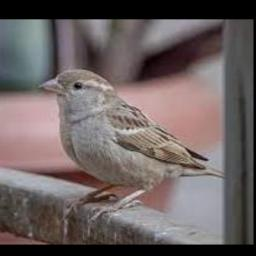Sparrow: (37, 69, 225, 220)
